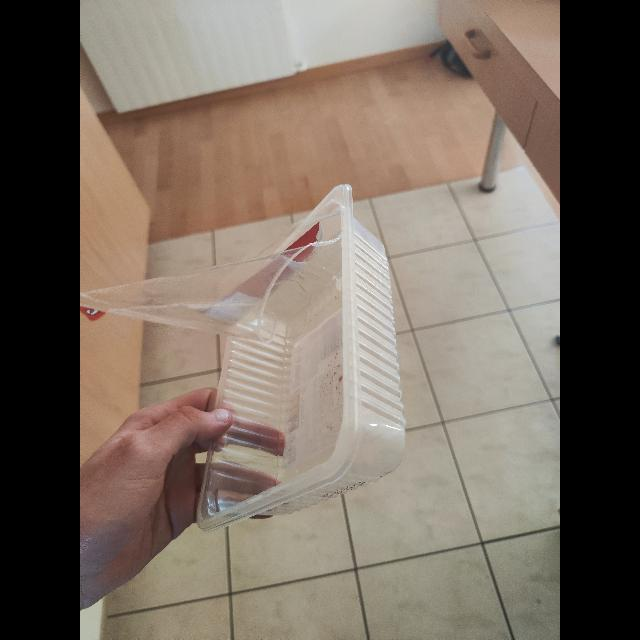Plastic: (80, 181, 430, 535)
